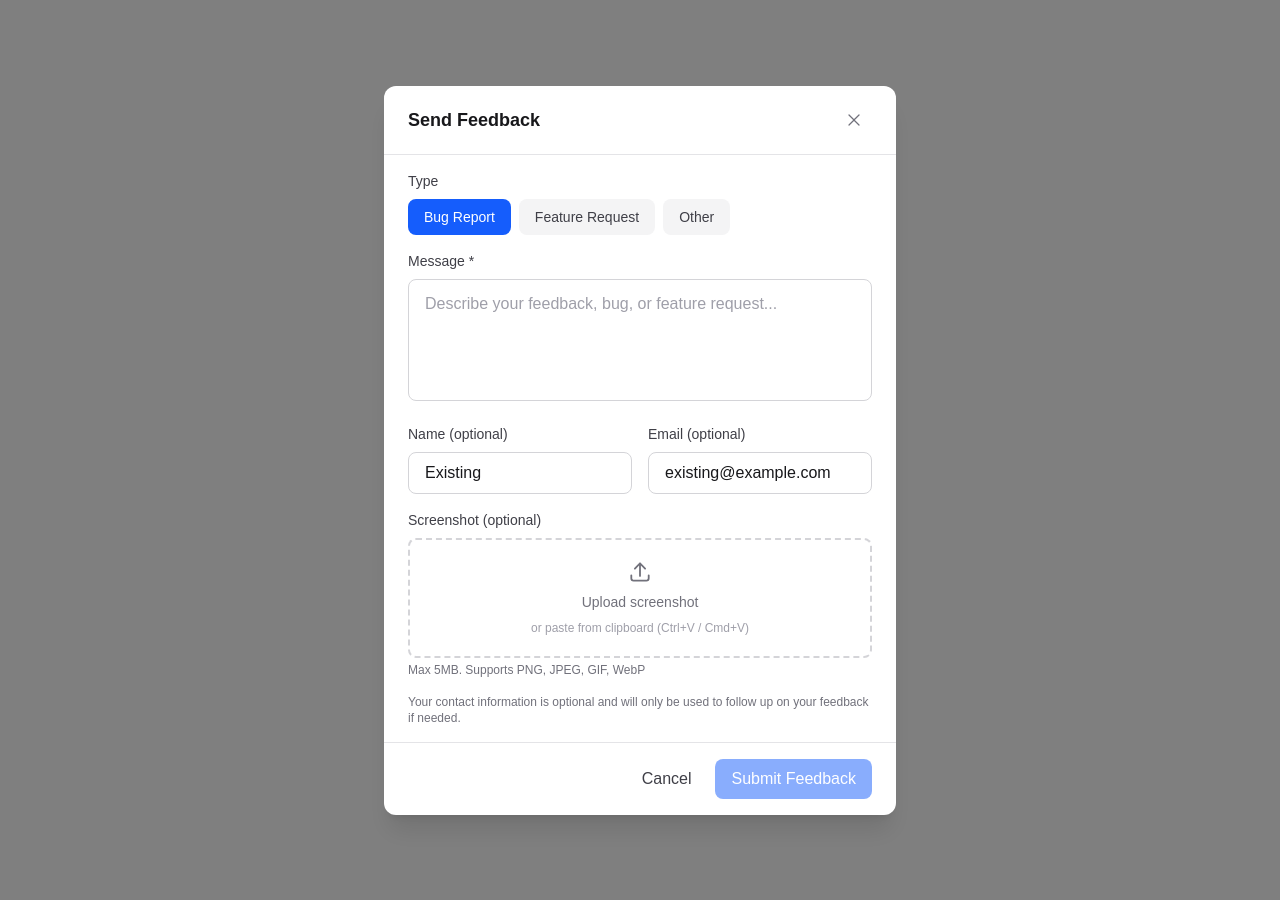
Test case: FeedbackModal › localStorage persistence › does not overwrite existing values when submitting with empty fields
The width and height of the screenshot is (1280, 900).
Clear the pre-populated values
Step 1. Clear the field with test id "feedback-name" → (520, 472), box [408,452,632,494]
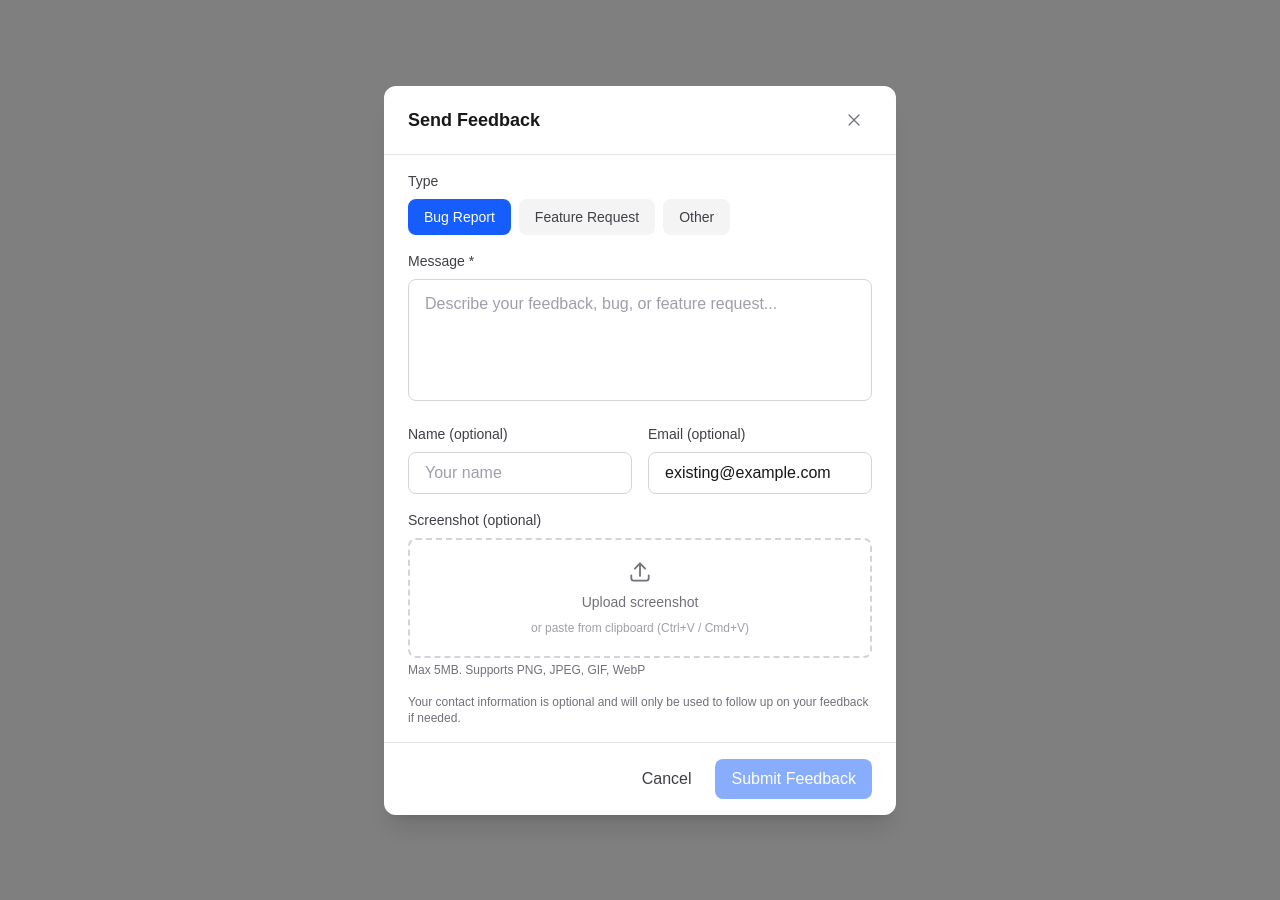
Step 2. Clear the field with test id "feedback-email" → (760, 472), box [648,452,872,494]
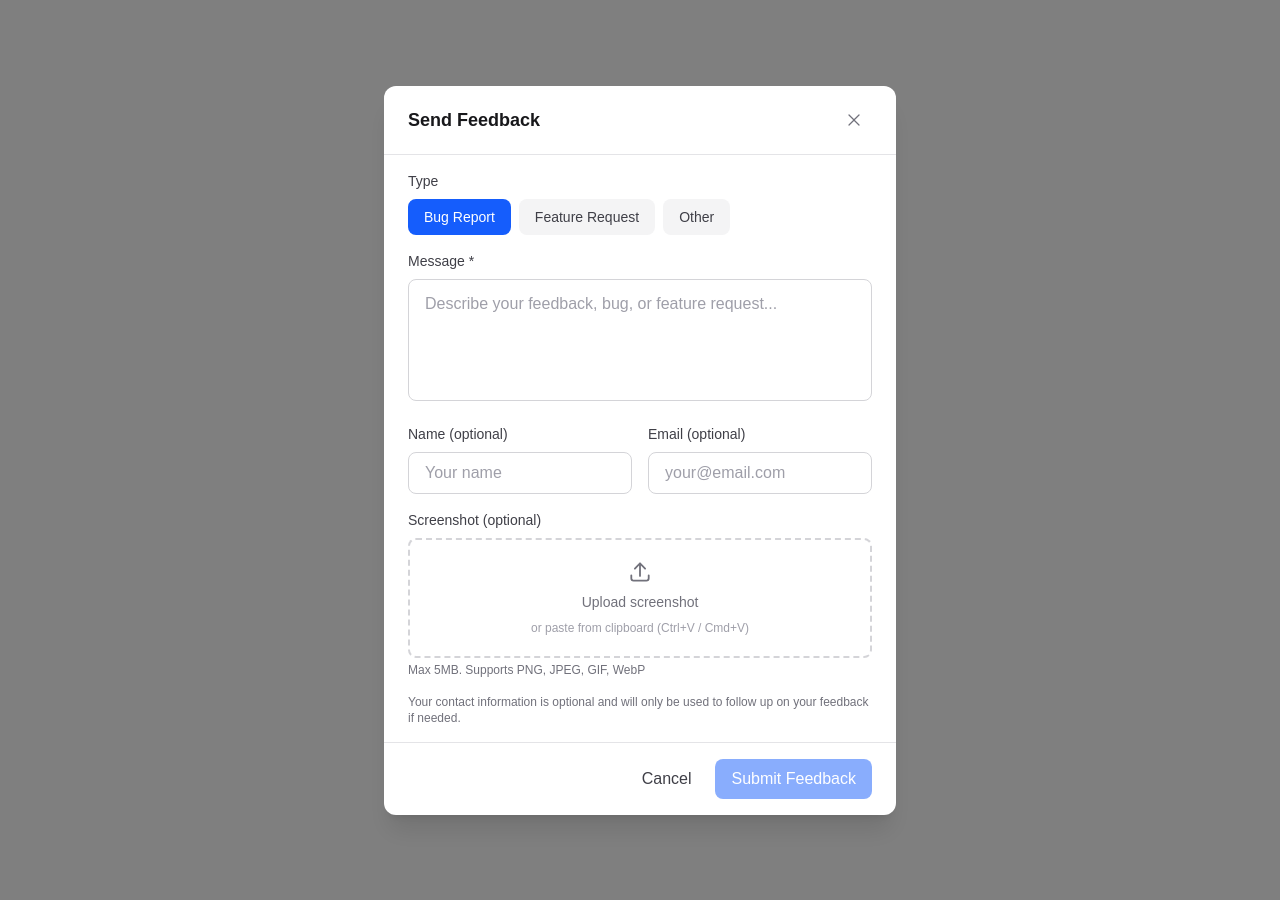
Step 3. Type "This is a test feedback message." into the text box with test id "feedback-message" → (640, 340), box [408,278,872,400]
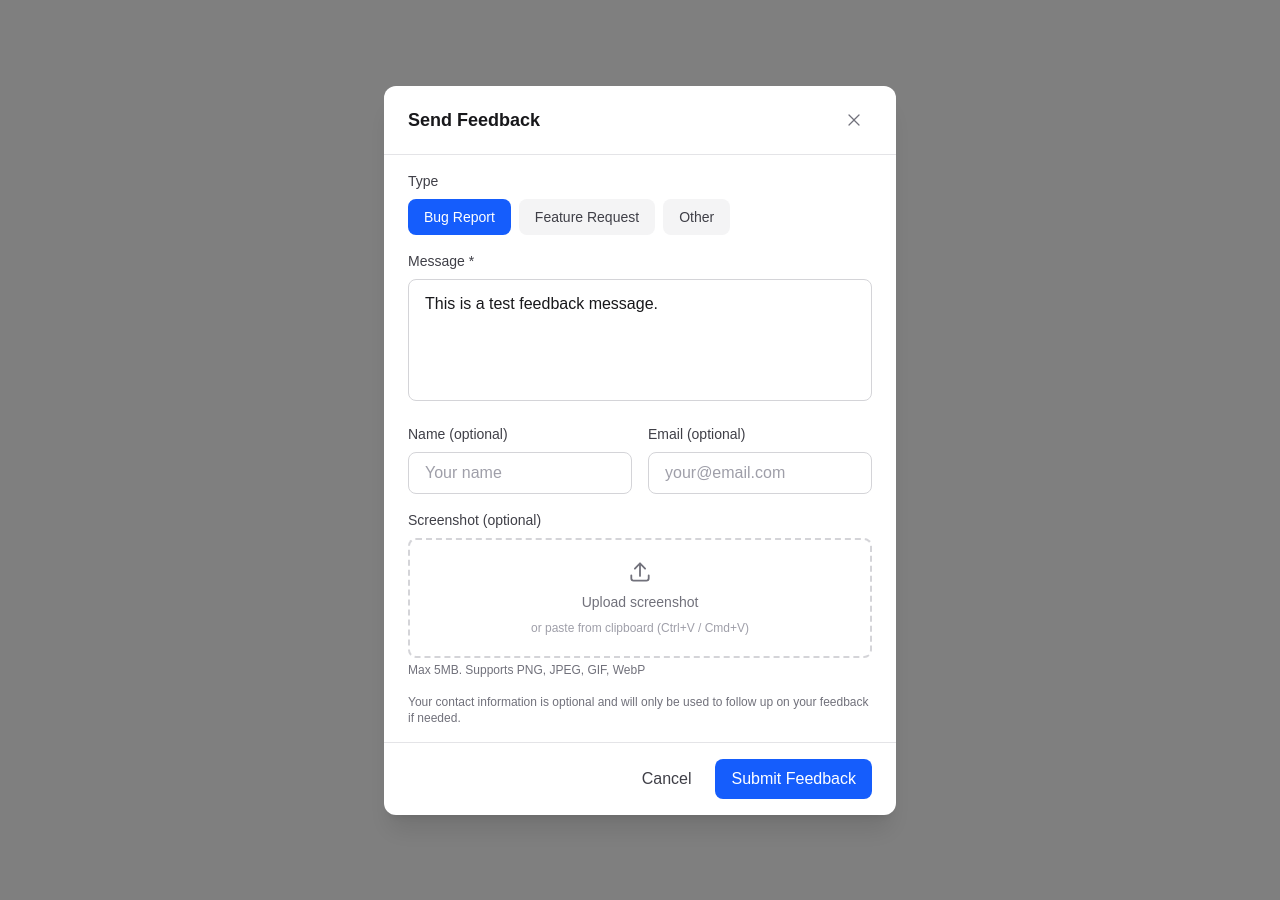
Step 4. Click the button with test id "submit-feedback" → click(794, 778), box [716,758,872,798]
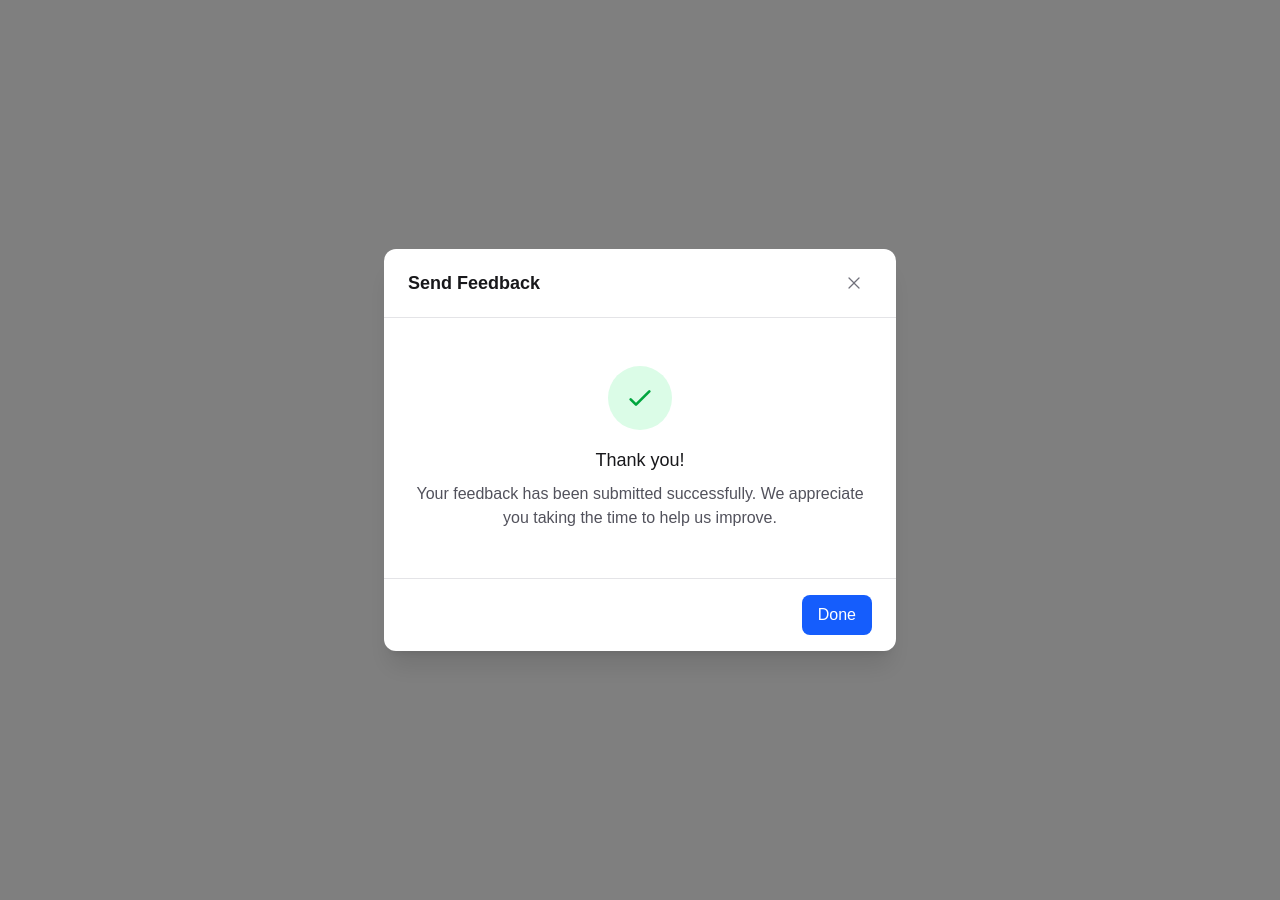
Expected: the heading "Thank you!" is shown, [596,450,685,470]
